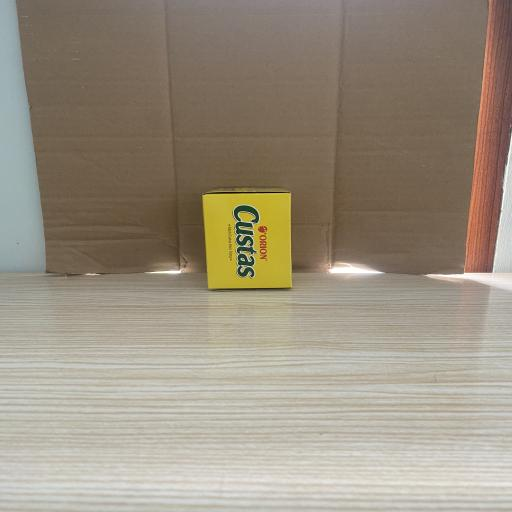custas: (201, 187, 293, 290)
